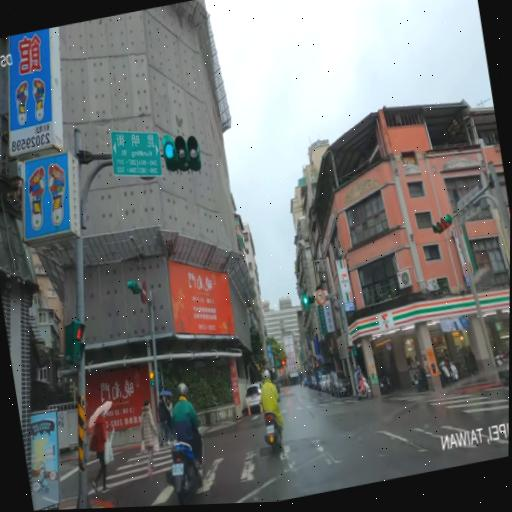Car: (240, 379, 269, 415), (327, 364, 349, 401), (493, 345, 509, 391), (323, 371, 340, 397), (314, 367, 331, 390), (319, 371, 334, 394)
